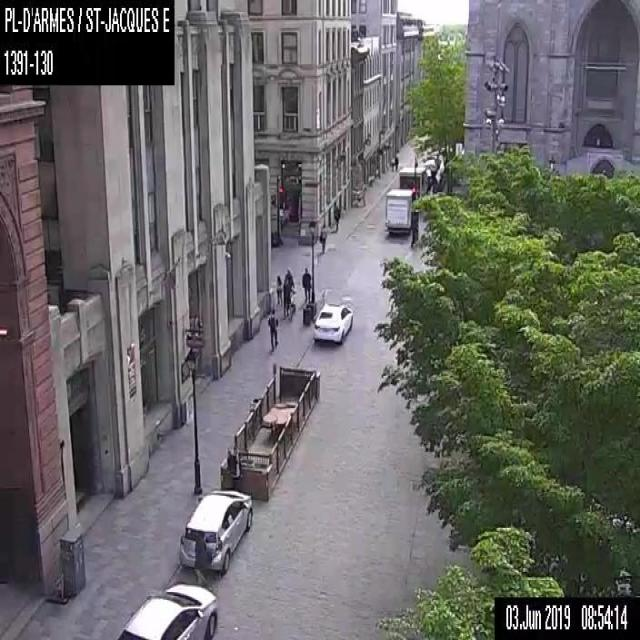pedestrian: (193, 531, 206, 585), (282, 276, 296, 320), (267, 308, 278, 352), (301, 265, 310, 304), (318, 223, 326, 253), (284, 266, 294, 286), (276, 275, 282, 306), (333, 205, 339, 232), (394, 153, 398, 170), (389, 160, 394, 170)
vehicle: (179, 485, 253, 572), (116, 580, 219, 639), (311, 302, 353, 346), (384, 188, 416, 235), (398, 166, 427, 202)
